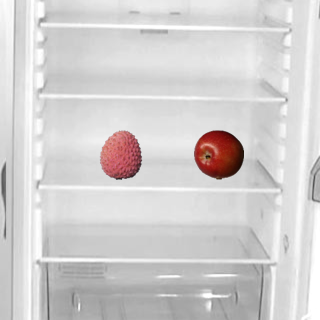Apple Braeburn: (193, 129, 243, 179)
Lychee: (95, 129, 145, 179)
